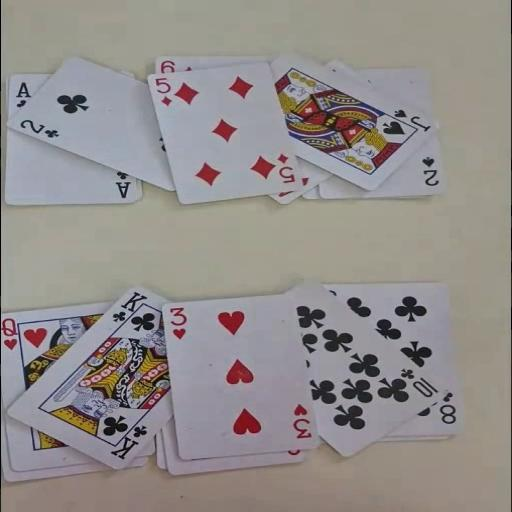10: (398, 366, 439, 398)
2: (18, 117, 60, 139), (420, 154, 441, 186)
3: (290, 402, 314, 439), (167, 305, 188, 340)
5: (274, 151, 297, 185), (153, 76, 174, 107)
A: (113, 169, 132, 199), (14, 80, 32, 108)
J: (390, 108, 432, 132)
K: (107, 418, 149, 460), (109, 289, 149, 325)
Q: (0, 316, 19, 350)
